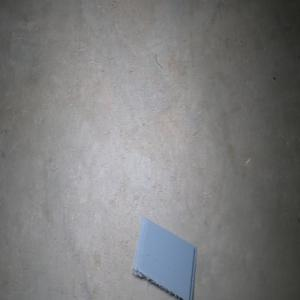PlasticPart: (131, 216, 197, 300)
